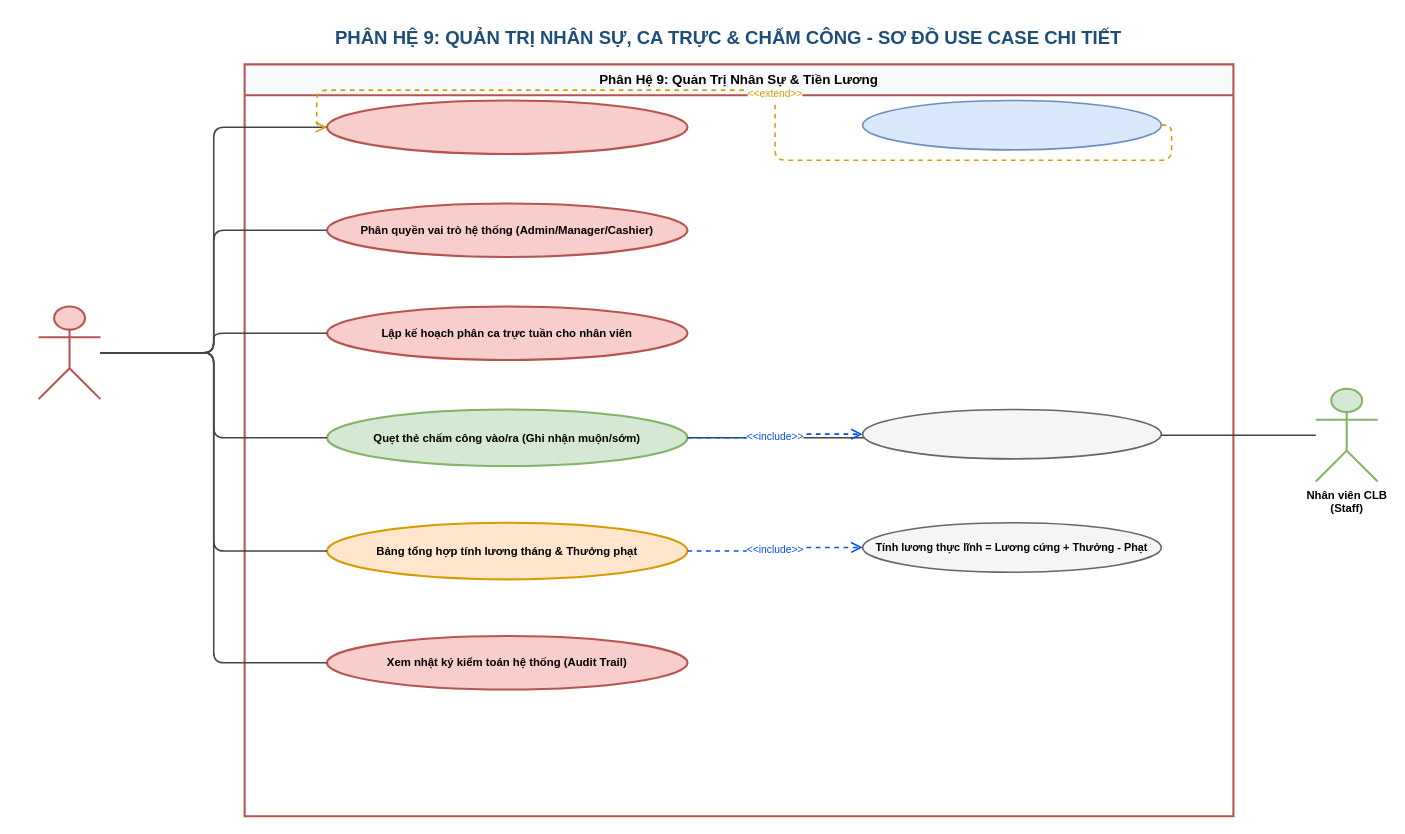
The diagram is 1405 pixels wide and 834 high, and some of its shapes have lost their labels. Each missing label, with the centre of its shape:
"Quản lý danh sách nhân viên (CRUD & Khóa TK)" goes at point (506, 126).
"Quản trị viên (Admin / Chủ quán)" goes at point (69, 352).
"Tính tổng số giờ công làm việc thực tế" goes at point (1011, 433).
"Tải ảnh thẻ nhận diện nhân viên" goes at point (1011, 124).
